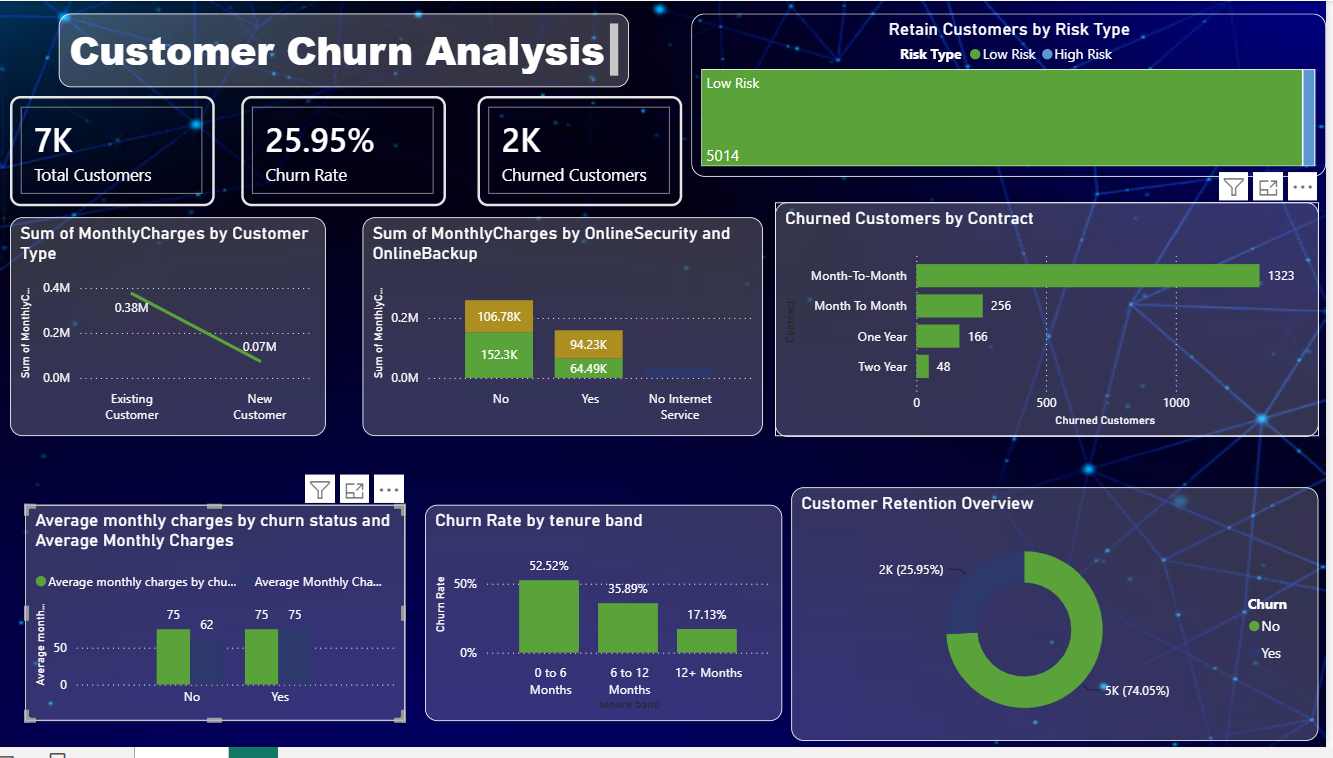

This screenshot's page, from the dashboard's own definition file:
{"tool":"powerbi","page":{"name":"Page 1","canvas":[1280,720],"ordinal":0},"visuals":[{"type":"textbox","box":[56.2,12.5,550,71.2],"z":0},{"type":"treemap","fields":{"Group":["telco_churn_unclean.Risk Type"],"Values":["Calculated Measures.Retain Customers"]},"box":[667.5,12.5,612.5,157.5],"z":1000},{"type":"cardVisual","fields":{"Data":["Calculated Measures.Total Customers"]},"box":[10,91.2,197.5,106.2],"z":2000},{"type":"cardVisual","fields":{"Data":["Calculated Measures.Churn Rate"]},"box":[232.5,91.2,197.5,106.2],"z":3000},{"type":"cardVisual","fields":{"Data":["Calculated Measures.Churned Customers"]},"box":[461.2,91.2,197.5,106.2],"z":4000},{"type":"donutChart","title":"Customer Retention Overview","fields":{"Category":["telco_churn_unclean.Churn"],"Y":["Calculated Measures.Total Customers"]},"box":[763.8,468.8,508.8,245],"z":5000},{"type":"clusteredBarChart","fields":{"Category":["telco_churn_unclean.Contract"],"Y":["Calculated Measures.Churned Customers"]},"box":[747.5,193.8,525,226.2],"z":6000},{"type":"columnChart","fields":{"Category":["telco_churn_unclean.OnlineSecurity"],"Series":["telco_churn_unclean.OnlineBackup"],"Y":["Sum(telco_churn_unclean.MonthlyCharges)"]},"box":[350,208.8,386.2,211.2],"z":7000},{"type":"columnChart","fields":{"Category":["telco_churn_unclean.tenure band"],"Y":["Calculated Measures.Churn Rate"]},"box":[410,486.2,345,208.8],"z":8000},{"type":"clusteredColumnChart","title":"Average monthly charges by churn status and Average Monthly Charges ","fields":{"Category":["telco_churn_unclean.Churn"],"Y":["Calculated Measures.Average monthly churn charges","Calculated Measures.Average Monthly Charges"]},"box":[23.8,486.2,367.5,208.8],"z":9000},{"type":"lineChart","fields":{"Category":["telco_churn_unclean.Customer Type"],"Y":["Sum(telco_churn_unclean.MonthlyCharges)"]},"box":[10,208.8,305,211.2],"z":9001}]}

Visuals, with their boxes in screenshot pixels (x1, y1, x2, y2), scaled from the page's 1280x720 canvas onto the 1333x758 screenshot:
textbox: (x1=59, y1=13, x2=631, y2=88)
treemap - telco_churn_unclean.Risk Type x Calculated Measures.Retain Customers: (x1=695, y1=13, x2=1332, y2=179)
cardVisual - Calculated Measures.Total Customers: (x1=10, y1=96, x2=216, y2=208)
cardVisual - Calculated Measures.Churn Rate: (x1=242, y1=96, x2=448, y2=208)
cardVisual - Calculated Measures.Churned Customers: (x1=480, y1=96, x2=686, y2=208)
"Customer Retention Overview" donutChart: (x1=795, y1=494, x2=1325, y2=751)
clusteredBarChart - telco_churn_unclean.Contract x Calculated Measures.Churned Customers: (x1=778, y1=204, x2=1325, y2=442)
columnChart - telco_churn_unclean.OnlineSecurity x telco_churn_unclean.OnlineBackup: (x1=364, y1=220, x2=767, y2=442)
columnChart - telco_churn_unclean.tenure band x Calculated Measures.Churn Rate: (x1=427, y1=512, x2=786, y2=732)
"Average monthly charges by churn status and Average Monthly Charges " clusteredColumnChart: (x1=25, y1=512, x2=408, y2=732)
lineChart - telco_churn_unclean.Customer Type x Sum(telco_churn_unclean.MonthlyCharges): (x1=10, y1=220, x2=328, y2=442)
